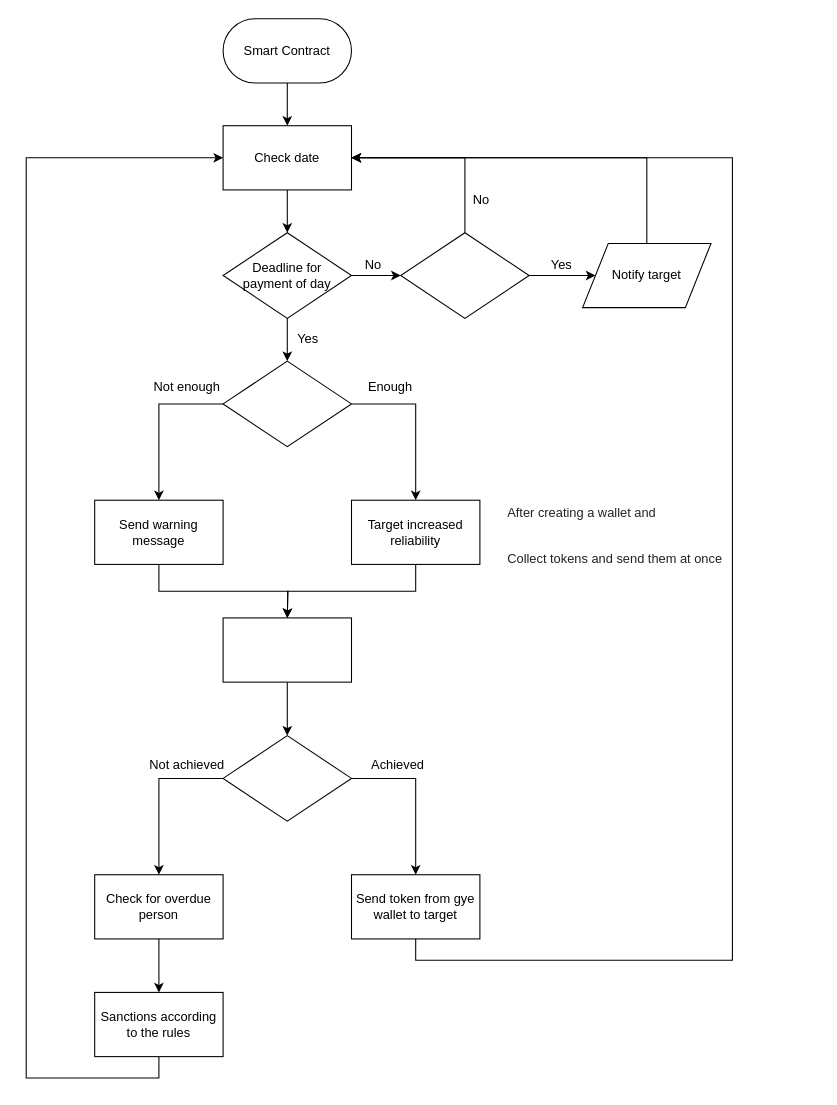
This 837x1105 diagram has some shape labels left out. The centre of each missing label's shape, as x and y in pixels:
"check target balance" goes at (286,403).
"Notification date" goes at (464,275).
"On the day of payment" goes at (286,649).
"Target money" goes at (286,778).
